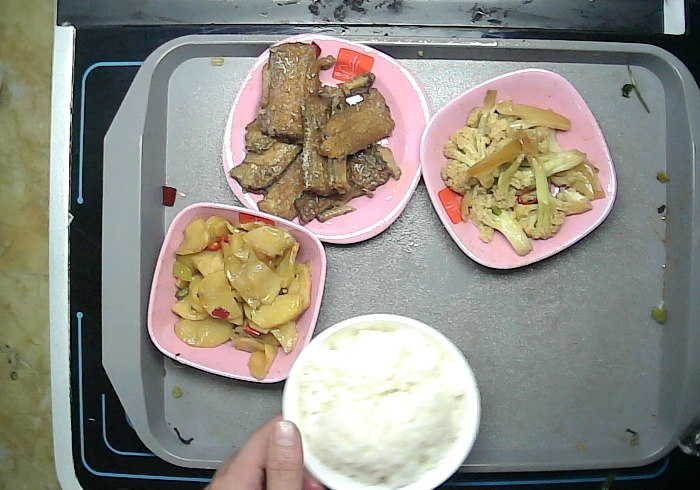SHKJ-Fan_Wan: (279, 312, 481, 490)
SHKJ-Fen_Se_Cai_Die: (419, 68, 618, 272)
SHKJ-Fen_Se_Si_Fang_Cai_Die: (220, 32, 429, 246)
SHKJ-Fen_Se_Xiao_Fang_Die: (145, 200, 326, 386)
